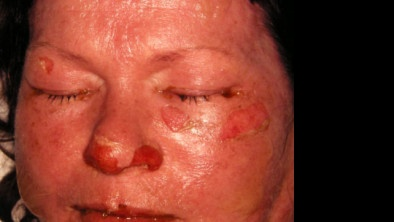SJS-TEN: (9, 0, 303, 222)
